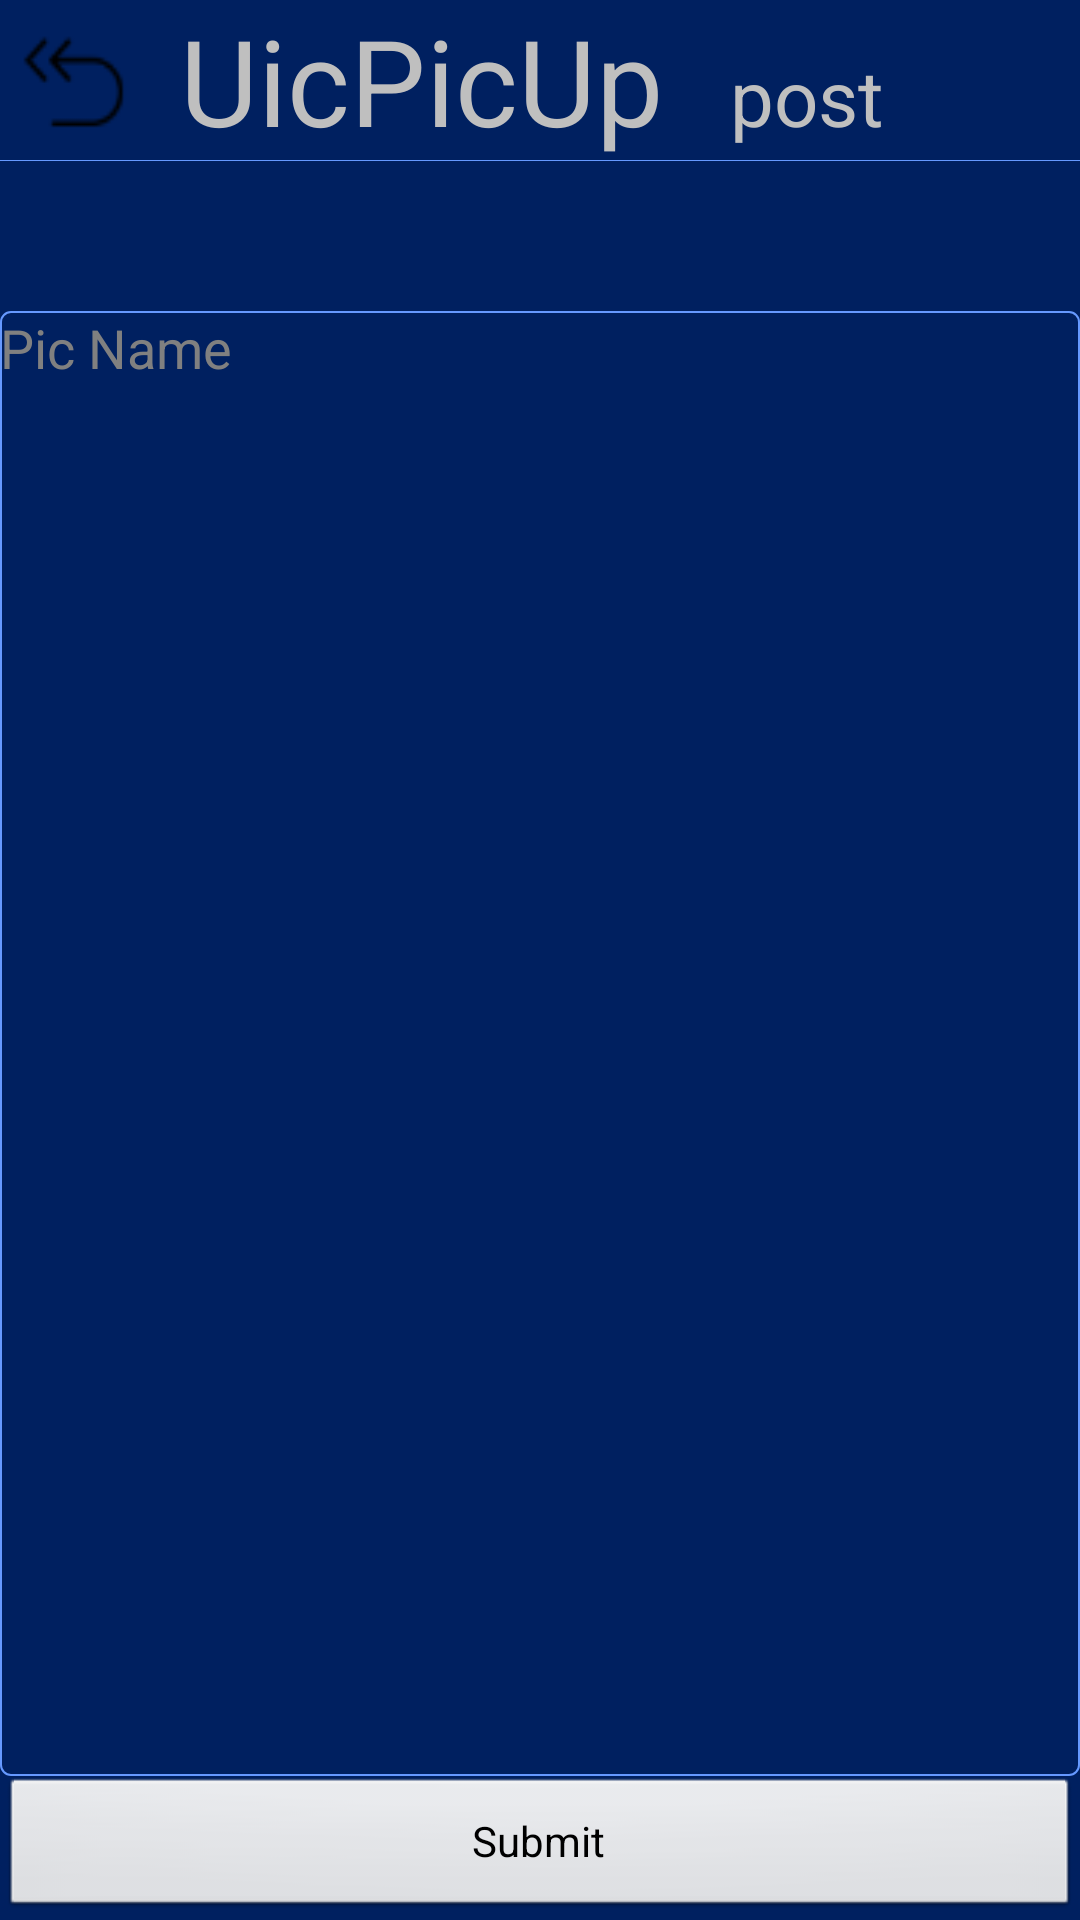

Icon bounding boxes for this 1080×1920 phone screenshot, format {"x1": x1, "y1": y1, "x2": x2, "y2": y2}:
back: {"x1": 24, "y1": 38, "x2": 123, "y2": 127}
